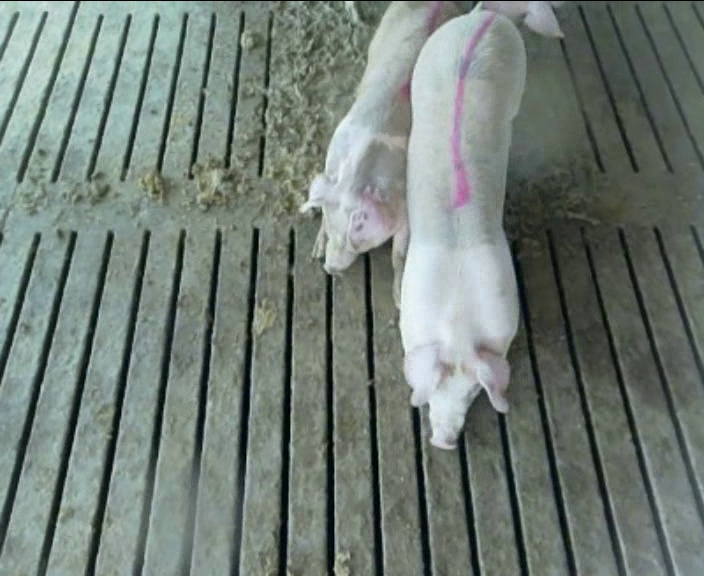pig: (302, 2, 460, 308)
